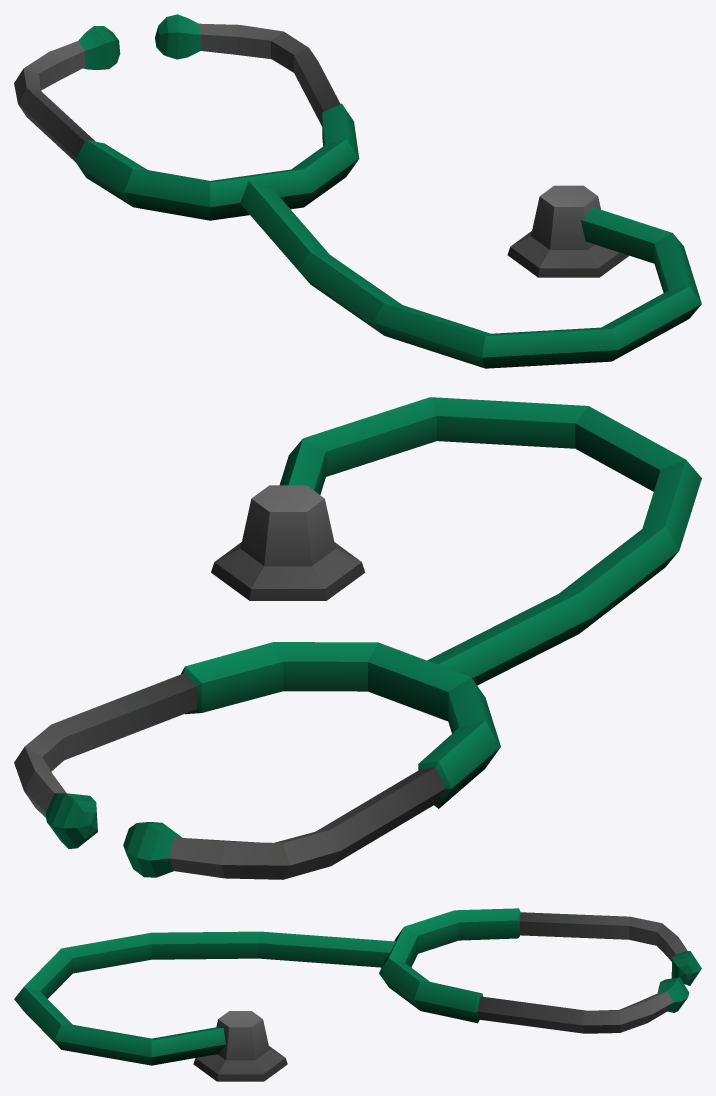
The model's file is Estetoscopio.fbx.
3 renders of one model, top to bottom at view 1: azimuth 30°, elevation 25°; view 2: azimuth 150°, elevation 25°; view 3: azimuth 270°, elevation 25°, orthographic. The views are drawn at different scales.
Parts seen in each view (by area): view 1: Estetoscopio; view 2: Estetoscopio; view 3: Estetoscopio.
Boxes of the visible parts, bbox=[...] form: Estetoscopio: bbox=[14, 14, 701, 368]; Estetoscopio: bbox=[14, 397, 701, 879]; Estetoscopio: bbox=[14, 908, 701, 1081].
Bounding box in the file's own units: 45.14 × 6.87 × 94.87.
